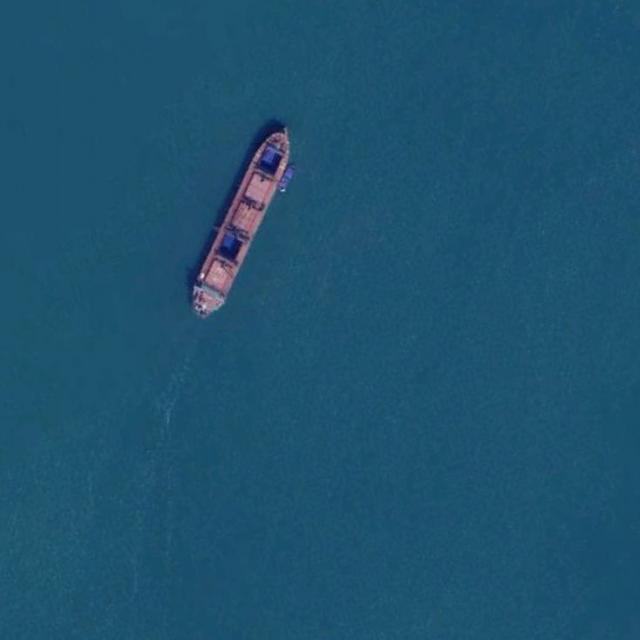ship: (190, 126, 291, 318)
